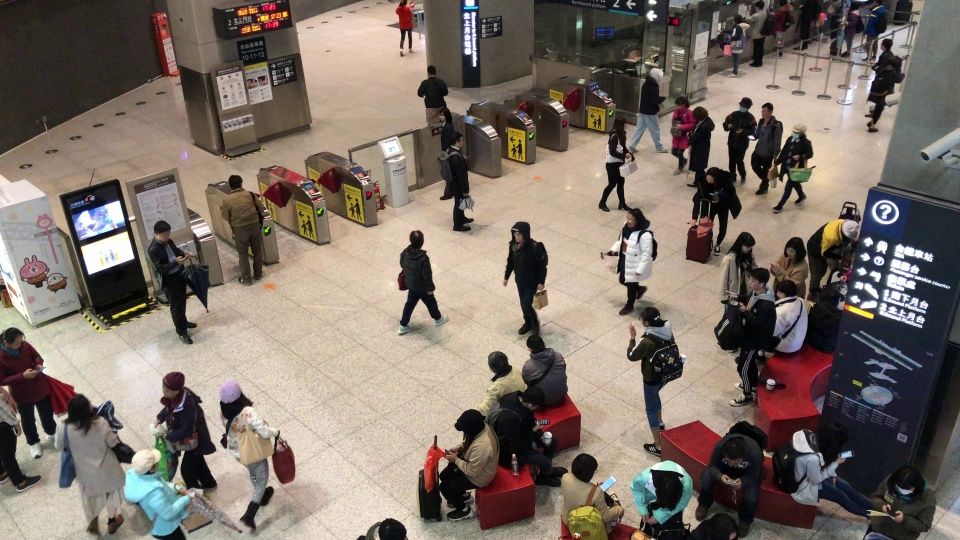person_head: (218, 378, 252, 415), (817, 420, 848, 455), (454, 409, 485, 437), (130, 447, 161, 474), (894, 465, 921, 495), (709, 512, 737, 540), (571, 453, 598, 482), (66, 394, 92, 421), (161, 371, 185, 399), (378, 517, 407, 540), (657, 475, 683, 500), (721, 438, 745, 464), (783, 236, 806, 261), (747, 267, 770, 291), (523, 386, 545, 410), (0, 327, 25, 348), (734, 231, 756, 254), (487, 350, 508, 374), (639, 306, 660, 327), (510, 221, 531, 241), (153, 219, 171, 242), (841, 219, 859, 241), (526, 334, 546, 352), (625, 208, 643, 226), (408, 229, 424, 248), (691, 105, 709, 121), (227, 173, 243, 190), (790, 122, 807, 138), (449, 131, 464, 148), (673, 95, 691, 109), (612, 115, 628, 130), (705, 166, 719, 183), (438, 107, 452, 123), (649, 67, 663, 83), (738, 96, 752, 112), (760, 102, 773, 118), (879, 37, 893, 51), (887, 55, 902, 68), (754, 0, 765, 11), (426, 65, 436, 76), (732, 13, 743, 23), (848, 2, 859, 11), (777, 0, 789, 7), (872, 0, 881, 6), (400, 0, 408, 5)
person_vbox: (53, 394, 126, 540), (771, 420, 872, 518), (219, 379, 279, 531), (626, 306, 686, 457), (695, 419, 767, 537), (485, 386, 568, 487), (153, 371, 217, 490), (0, 327, 56, 458), (438, 409, 500, 522), (727, 267, 777, 405), (145, 219, 197, 344), (124, 448, 189, 540), (396, 229, 449, 334), (862, 465, 936, 539), (502, 221, 548, 335), (560, 453, 624, 534), (610, 207, 658, 315), (686, 167, 742, 257), (716, 232, 758, 352), (630, 460, 693, 538), (221, 174, 264, 285), (806, 217, 859, 302), (0, 385, 41, 493), (771, 121, 813, 213), (627, 67, 670, 154), (437, 131, 474, 232), (746, 102, 783, 194), (475, 351, 526, 416), (521, 334, 567, 406), (597, 115, 631, 212), (721, 96, 757, 185), (866, 55, 905, 132), (773, 280, 808, 355), (769, 236, 809, 300), (686, 105, 715, 188), (716, 13, 751, 77), (744, 0, 776, 67), (866, 37, 894, 112), (766, 0, 801, 58), (671, 96, 695, 175), (417, 65, 448, 126), (860, 0, 888, 61), (438, 107, 456, 201), (839, 1, 864, 59), (691, 511, 737, 540), (792, 0, 818, 50), (356, 517, 407, 540), (395, 0, 414, 56), (826, 0, 842, 42), (775, 279, 797, 300)
